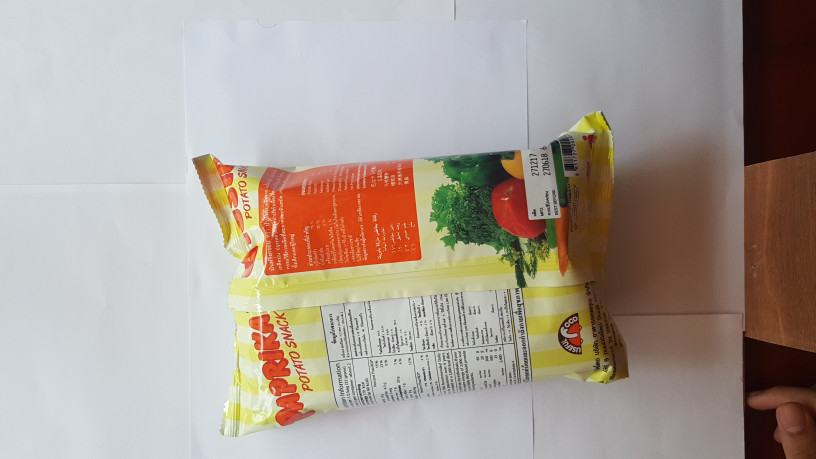paprika: (178, 120, 640, 438)
